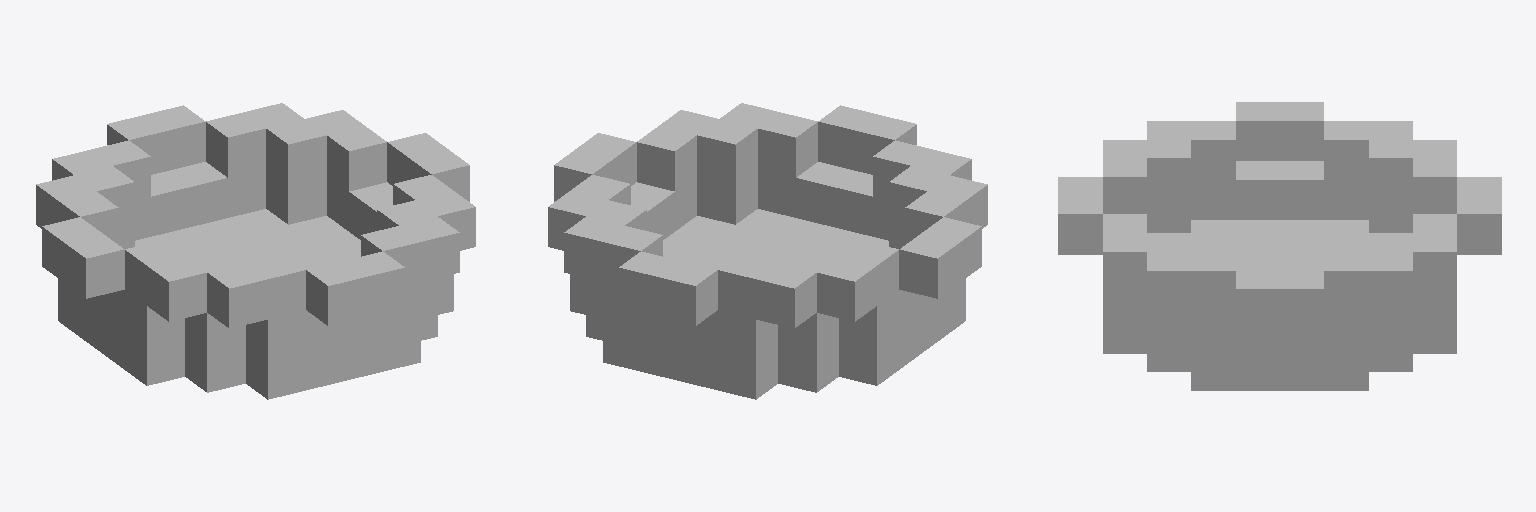
File: kapak 1.obj
The picture shows the model from 3 angles: view 1: azimuth 30°, elevation 25°; view 2: azimuth 150°, elevation 25°; view 3: azimuth 270°, elevation 25°; orthographic projection.
Visible parts, largest first — view 1: object 1; view 2: object 1; view 3: object 1.
Part boxes in pixels (bbox=[...]): object 1: bbox=[36, 103, 475, 399]; object 1: bbox=[548, 103, 987, 399]; object 1: bbox=[1058, 102, 1501, 390].
Bounding box in the file's own units: 1 × 0.3 × 1.